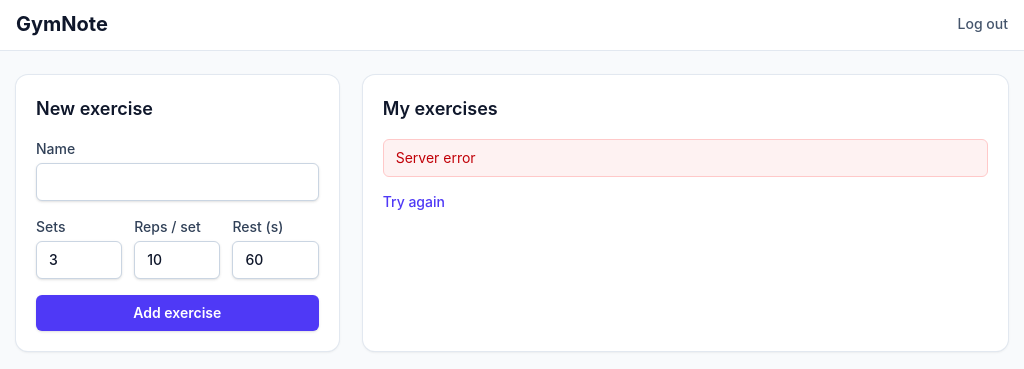
ExercisesPage › shows an error state with retry when loading fails
expect the message reads "Server error": met, box [396,149,476,166]
Step 1. Click the button "Try again" → (414, 202), box [383,192,445,212]
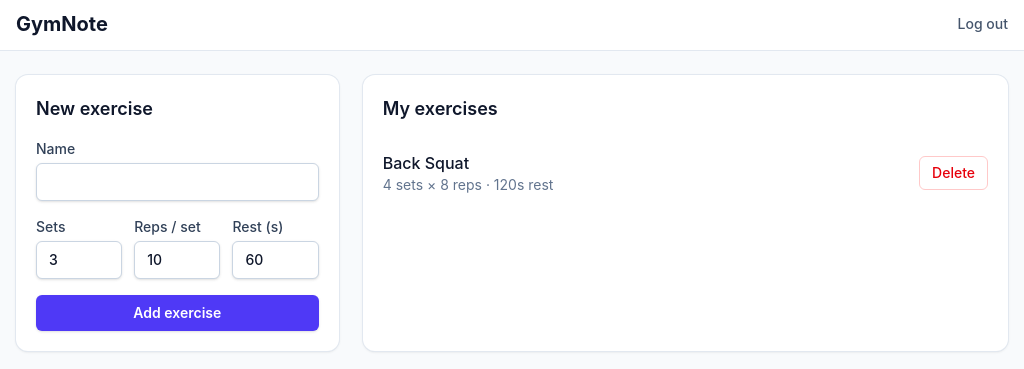
expect the text "Back Squat" is shown: met, box [383,153,469,173]
